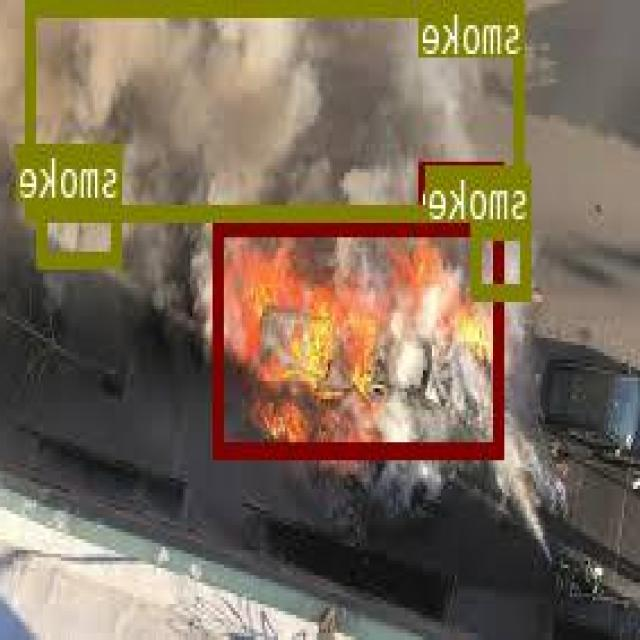fire: (216, 217, 507, 455)
smoke: (29, 0, 525, 216), (39, 200, 123, 266), (474, 221, 532, 295)
